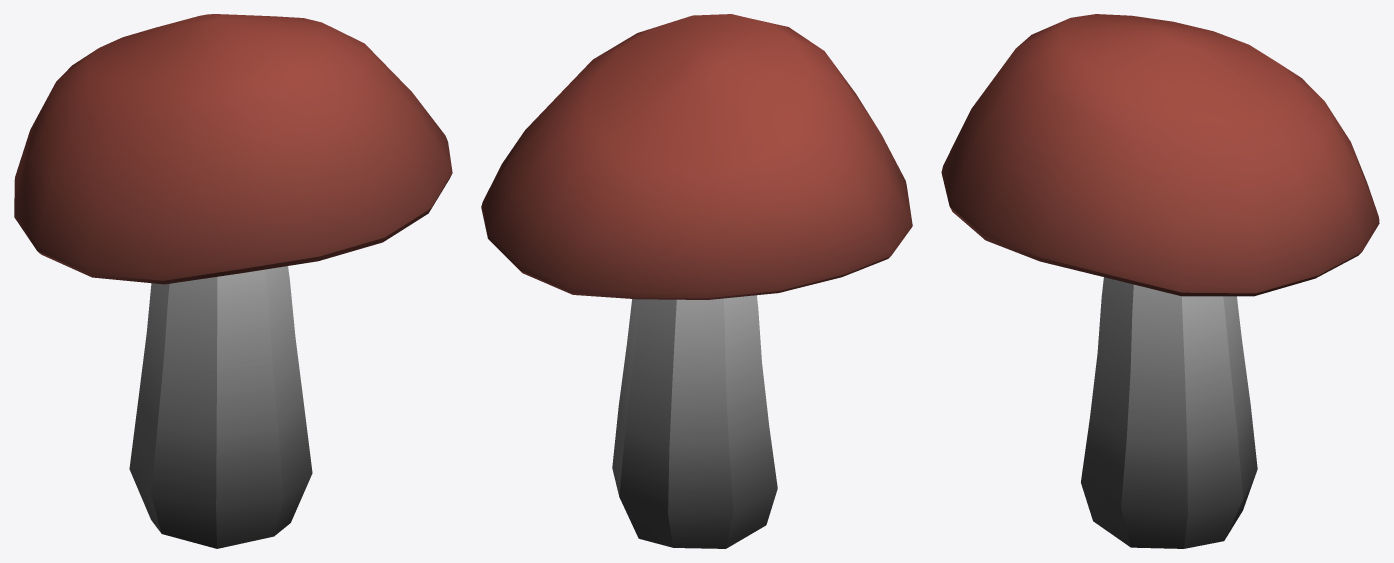
The model's file is mushroom1.fbx.
3 renders of one model, left to right at view 1: azimuth 30°, elevation 25°; view 2: azimuth 150°, elevation 25°; view 3: azimuth 270°, elevation 25°, orthographic. The views are drawn at different scales.
Visible parts, largest first — view 1: mushroom13; view 2: mushroom13; view 3: mushroom13.
Part boxes in pixels (x1=…): mushroom13: x1=14, y1=14, x2=452, y2=548; mushroom13: x1=481, y1=14, x2=912, y2=548; mushroom13: x1=941, y1=14, x2=1379, y2=548.
Size of the model in its own units: 56.31 by 70.34 by 55.41.
